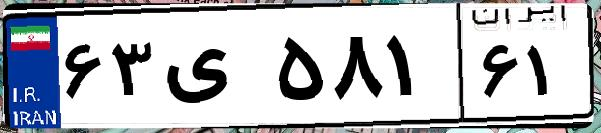1: (385, 28, 445, 110), (525, 38, 570, 115)
3: (110, 28, 158, 98)
5: (270, 28, 330, 110)
6: (57, 26, 110, 100), (475, 38, 525, 113)
8: (330, 28, 385, 110)
ی: (158, 20, 270, 120)
